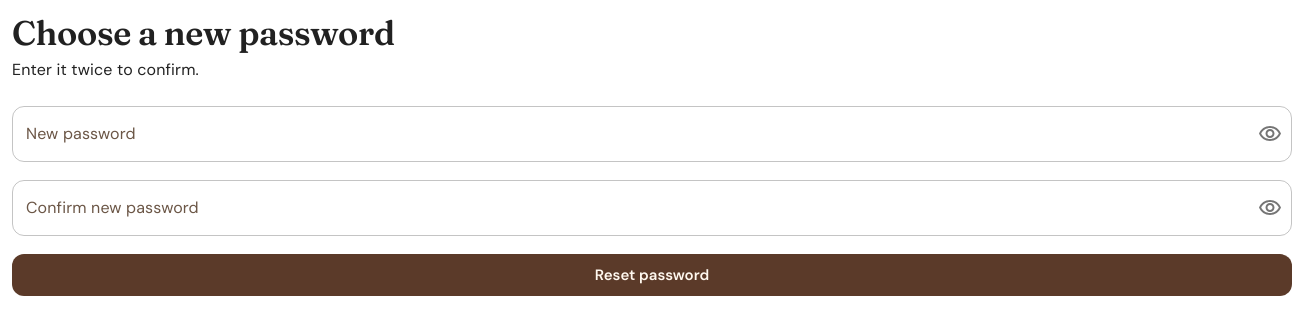
it: ResetPasswordForm › flags mismatched confirmation
In the password field labelled "New password": x=627, y=134 [12,106,1242,162], type "brew-new-pass-0001"
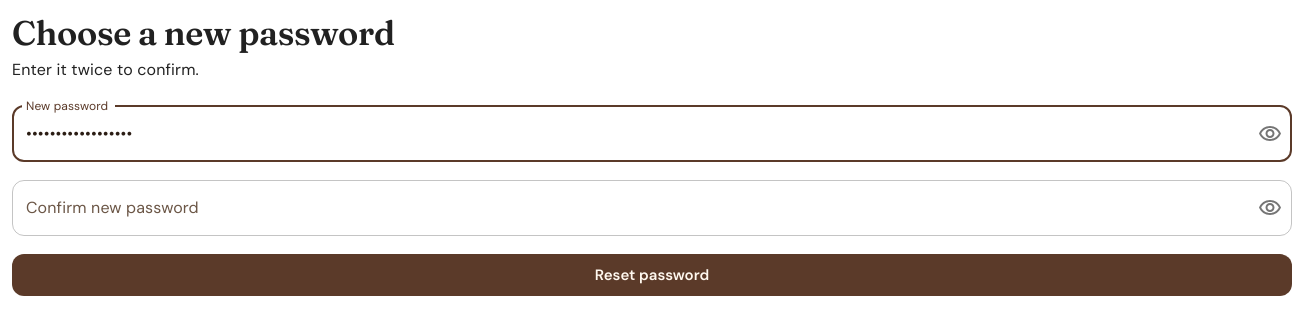
In the password field labelled "Confirm new password": x=627, y=208 [12,180,1242,236], type "brew-different-0001"
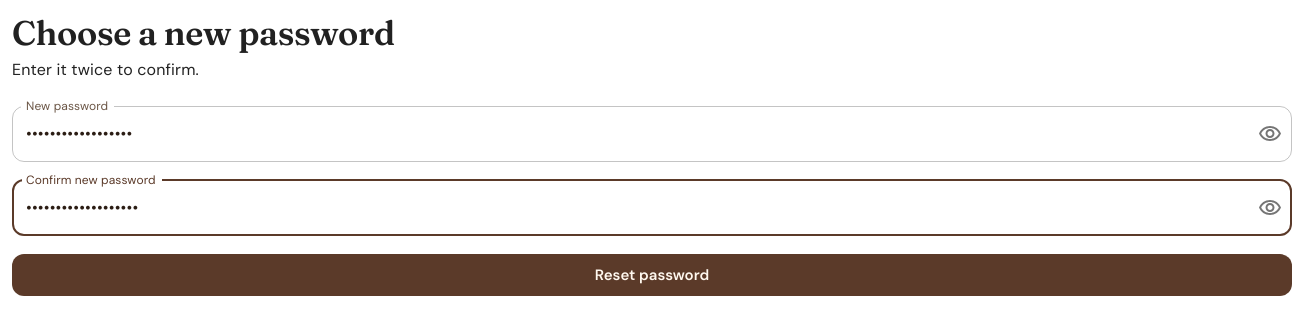
Click the button "Reset password": x=652, y=275 [12,254,1292,296]
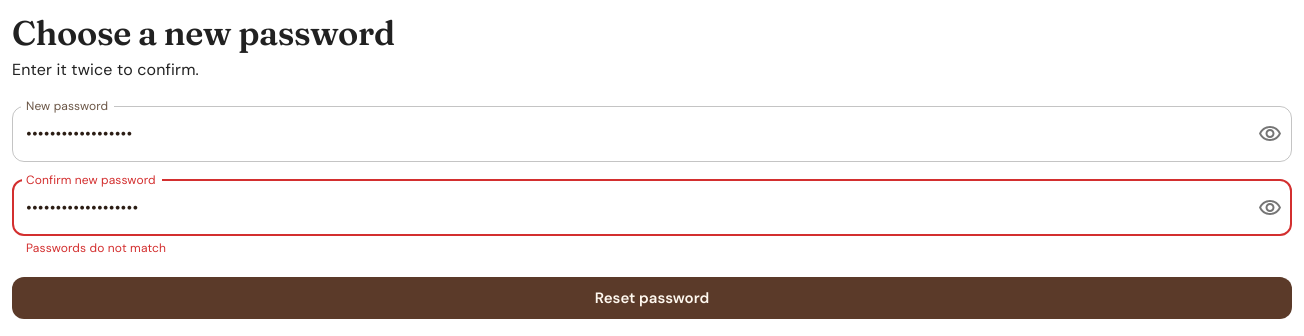
expect the text "Passwords do not match" is shown: met, box [26,240,166,256]
